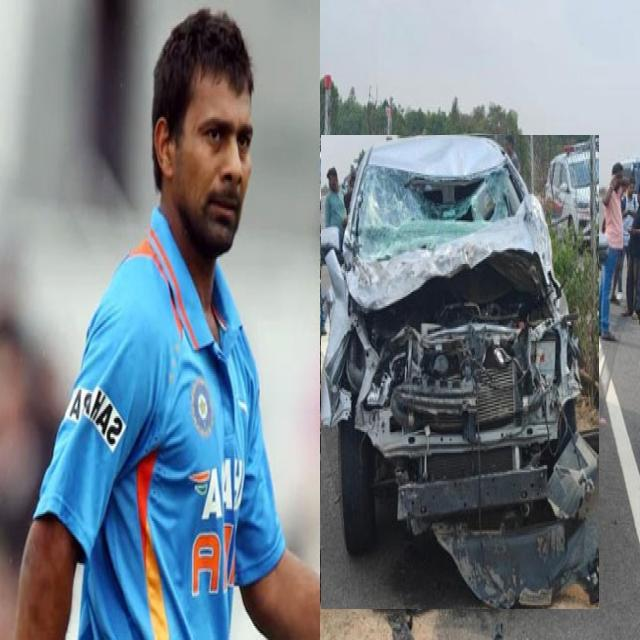accident: (321, 136, 599, 609)
